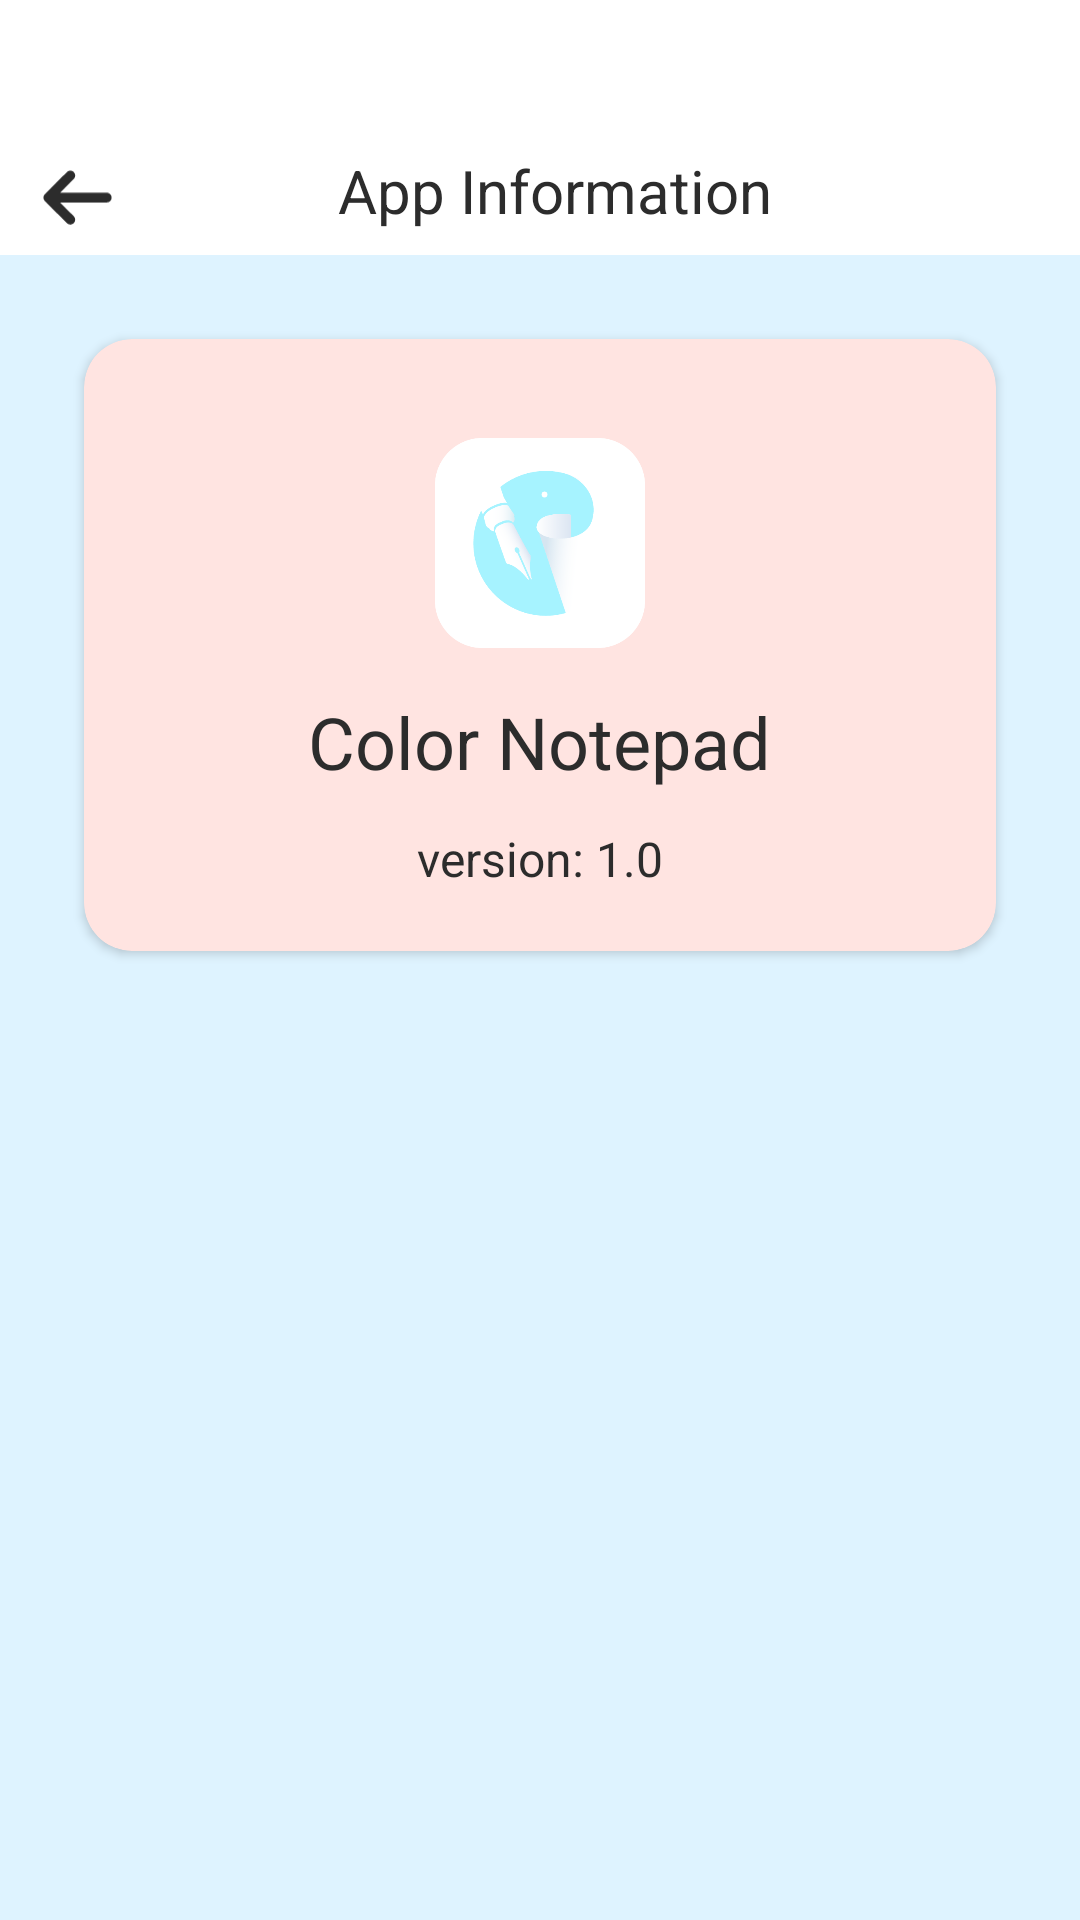

Point at icon controls on the screen. Image size 1080×1920, points as (x=x, y=y).
back: (x=77, y=197)
